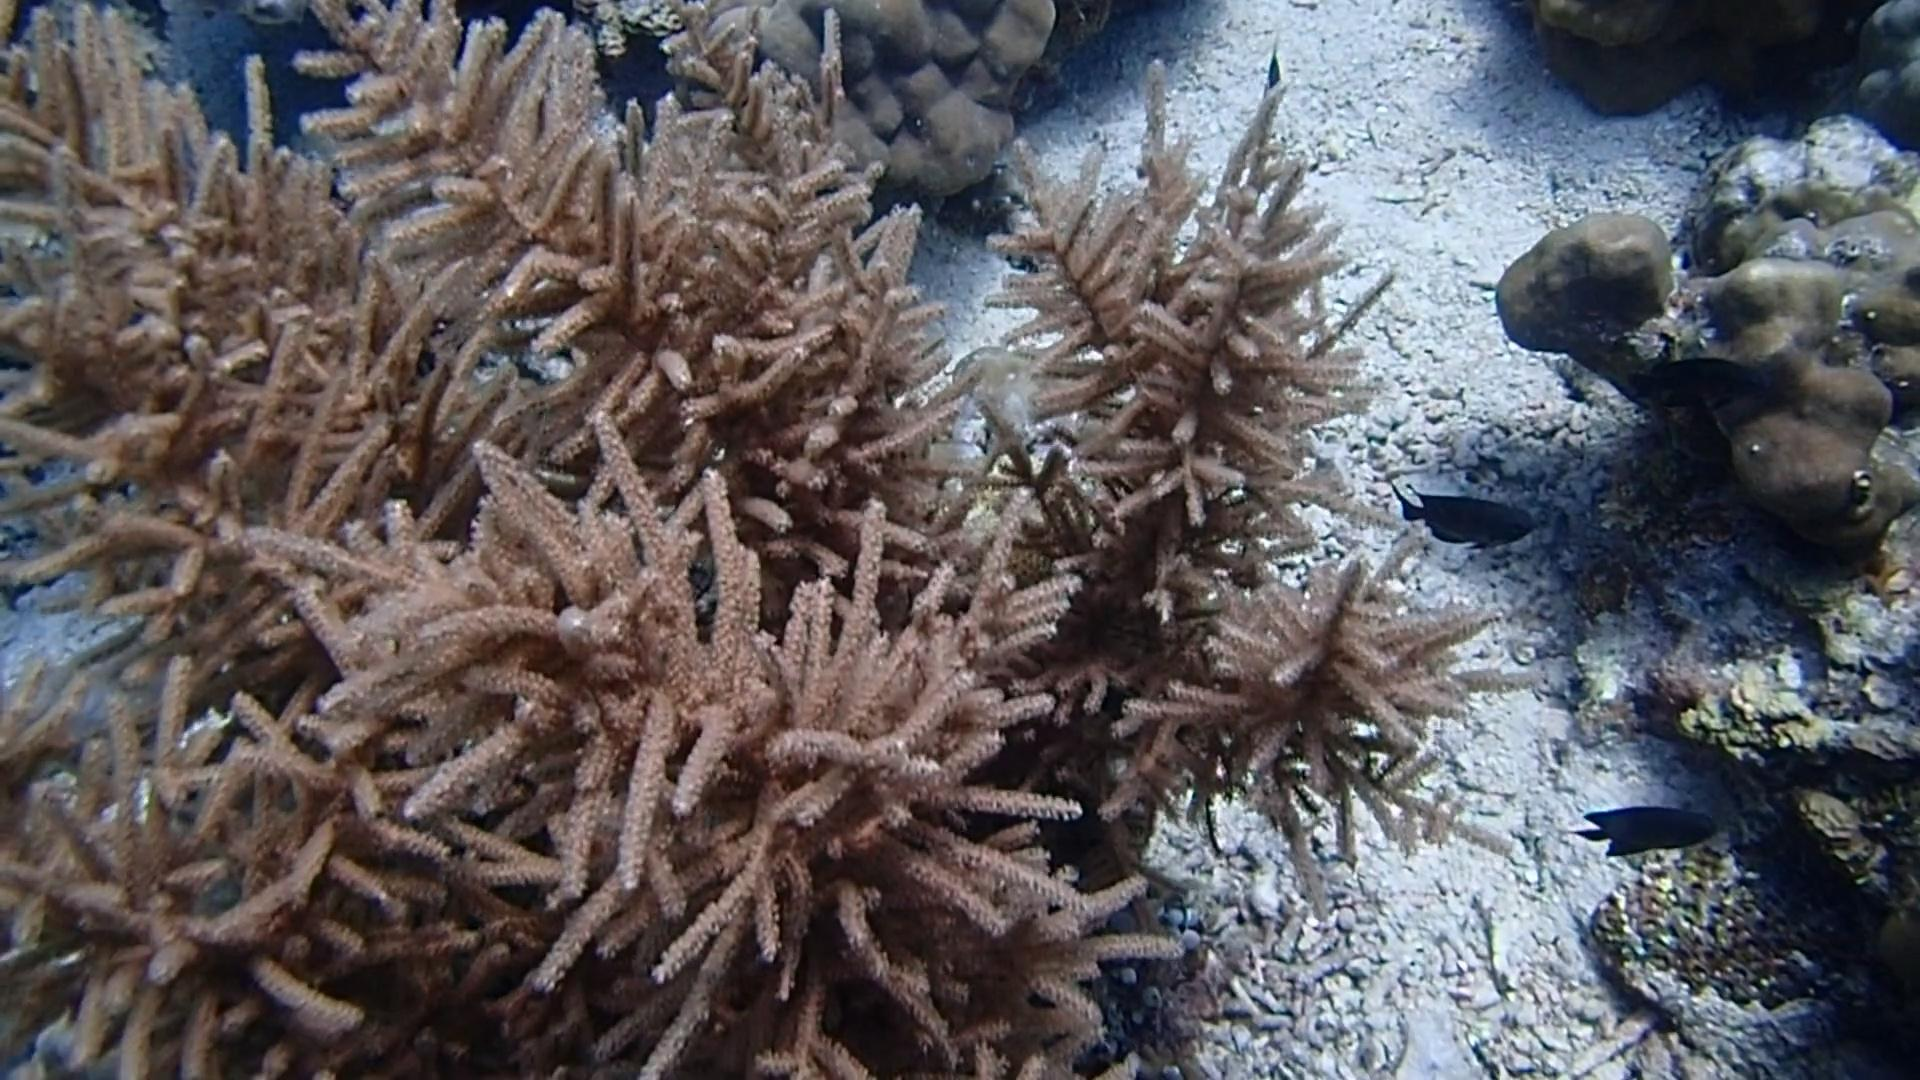Dark Fish: (1564, 799, 1727, 872), (1389, 479, 1535, 556), (1621, 349, 1766, 418)
Yellow Tail: (1258, 41, 1294, 102)
